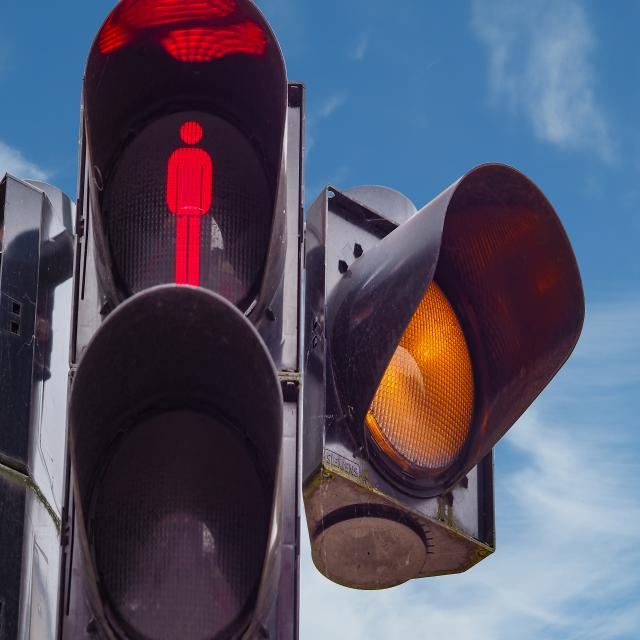red: (121, 96, 264, 316)
